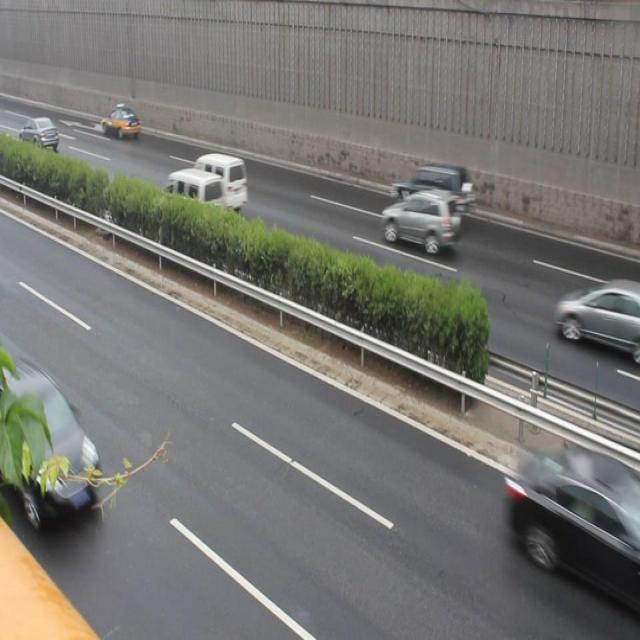car: (505, 438, 640, 610), (1, 363, 101, 527), (554, 282, 640, 363), (380, 192, 458, 255), (392, 167, 471, 228), (100, 109, 140, 140)
truck: (158, 171, 223, 237), (181, 154, 248, 211)
